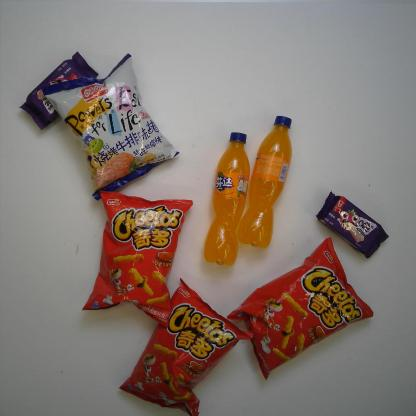Dessert: (18, 50, 99, 131), (316, 191, 390, 260)
Drink: (234, 114, 294, 249), (204, 131, 252, 268)
Puffed Food: (225, 236, 376, 383), (40, 52, 182, 203), (118, 276, 255, 416), (80, 187, 195, 332)
